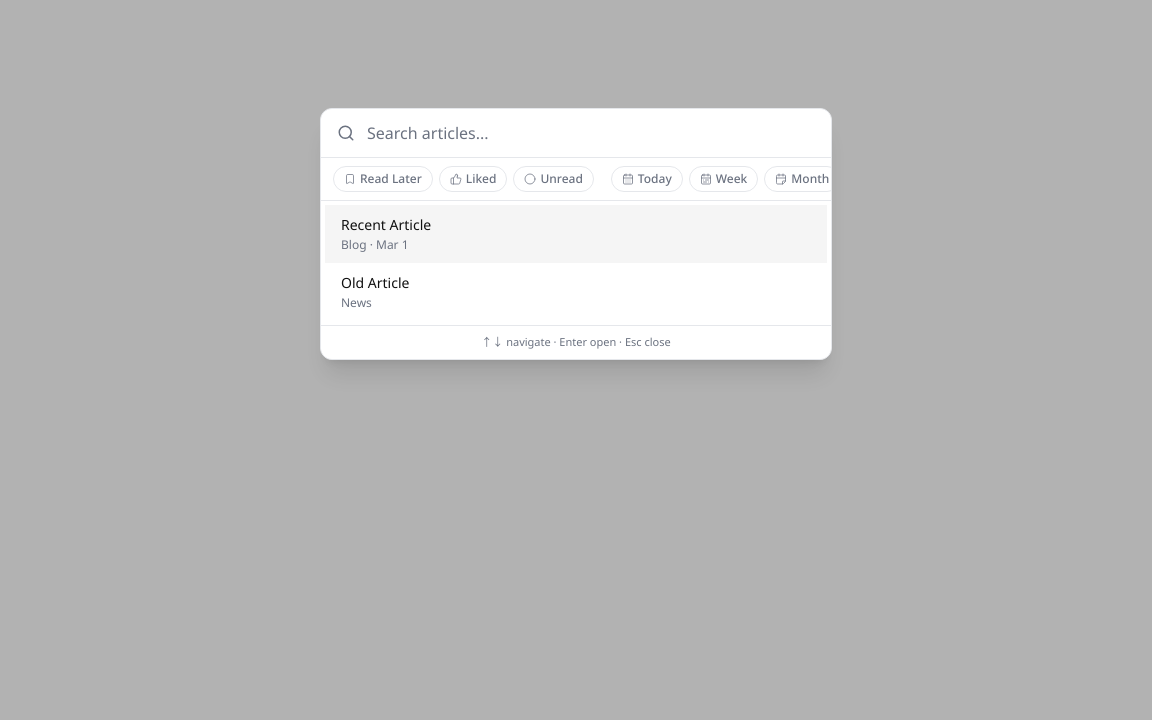
Scenario: SearchDialog › performs search on debounced input
The width and height of the screenshot is (1152, 720).
Type "hello" into the dropdown at coordinates (591, 133), box [367,109,815,157]
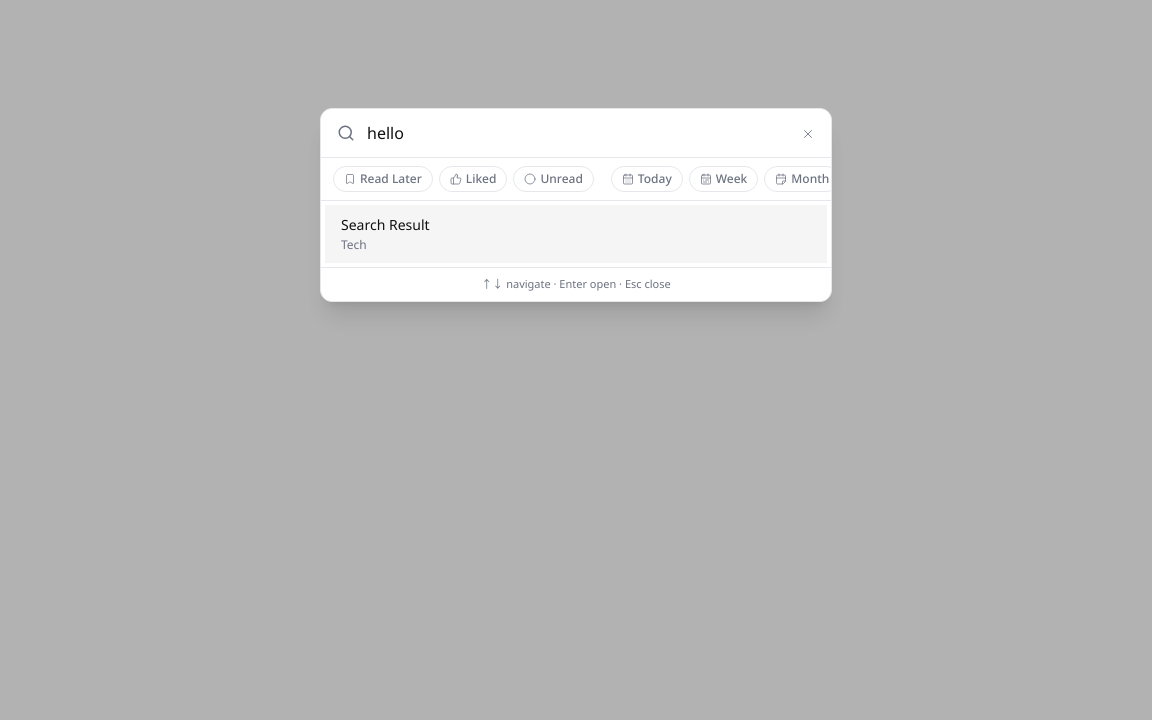
Now the text "Search Result" is shown, box [341,215,430,234]
